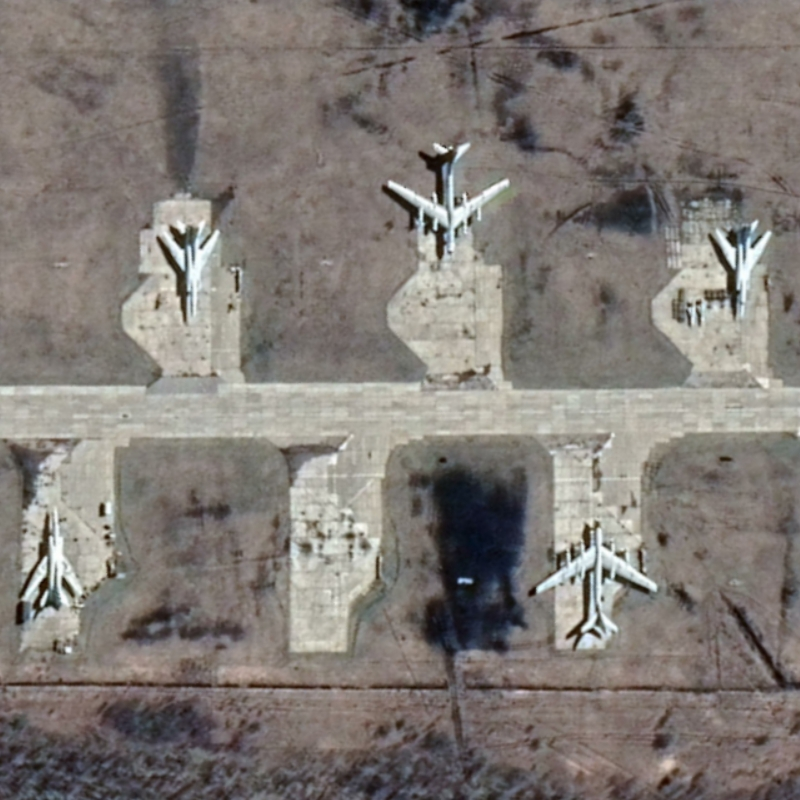A12: (19, 504, 85, 610), (160, 218, 222, 319), (713, 217, 773, 320)
A17: (385, 140, 511, 257), (533, 524, 660, 637)
